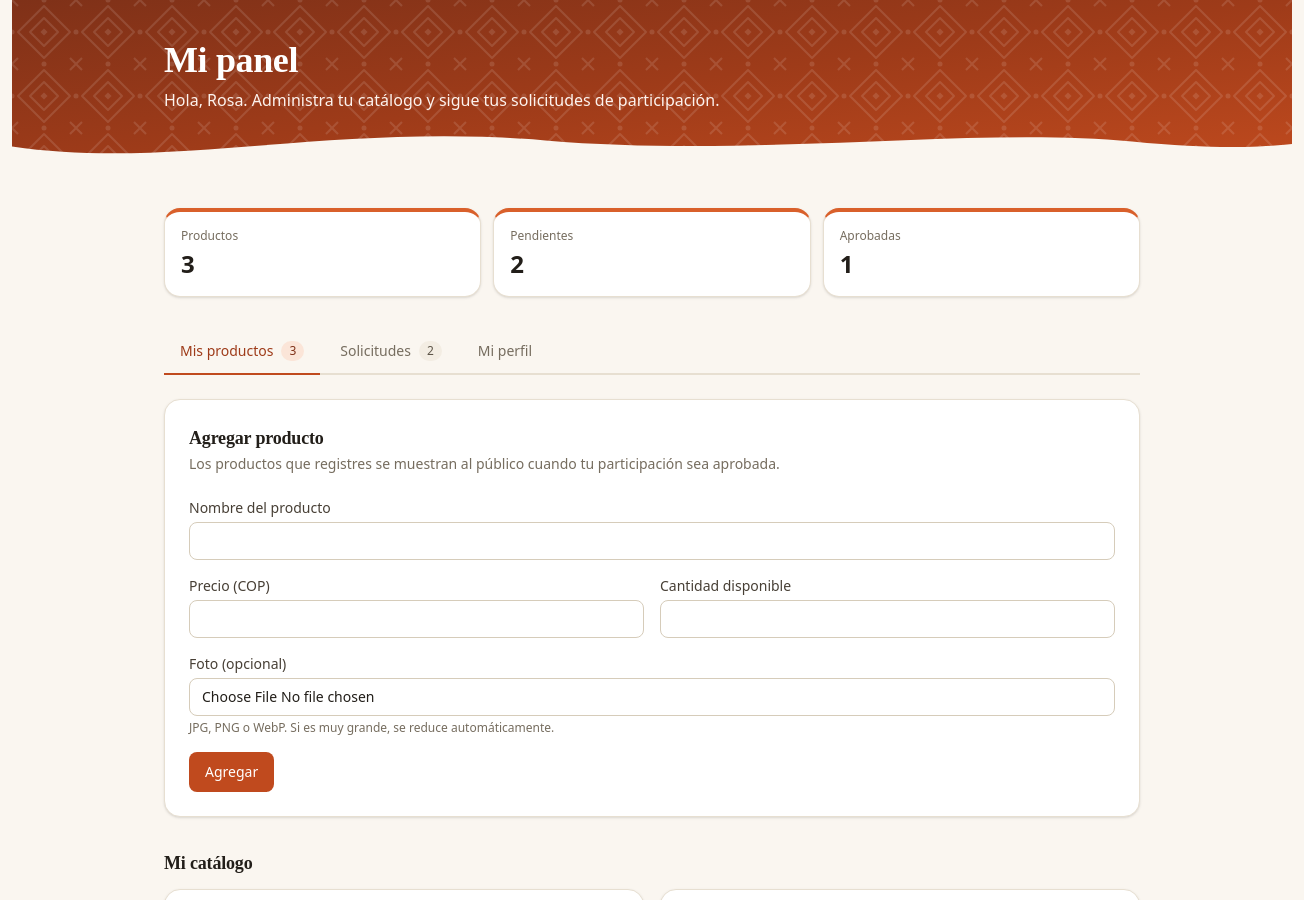
Test: PanelArtesano: crear producto › si crear falla muestra el error y conserva el formulario
Step 1. Type "Cesta" into the field labelled "Nombre del producto" → (652, 541), box [189, 522, 1115, 560]
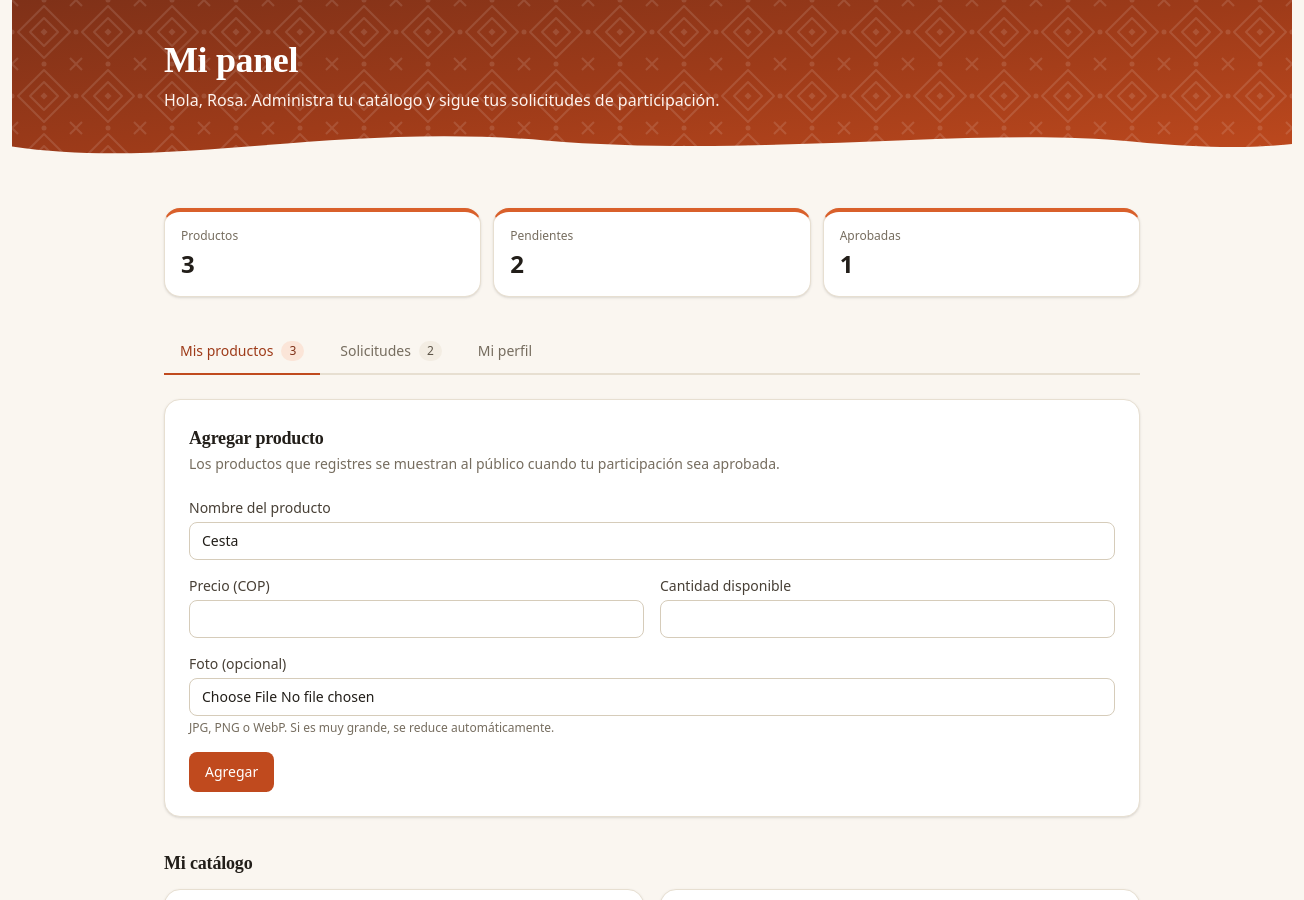
Step 2. Type "15000" into the number field labelled "Precio (COP)" → (416, 619), box [189, 600, 644, 638]
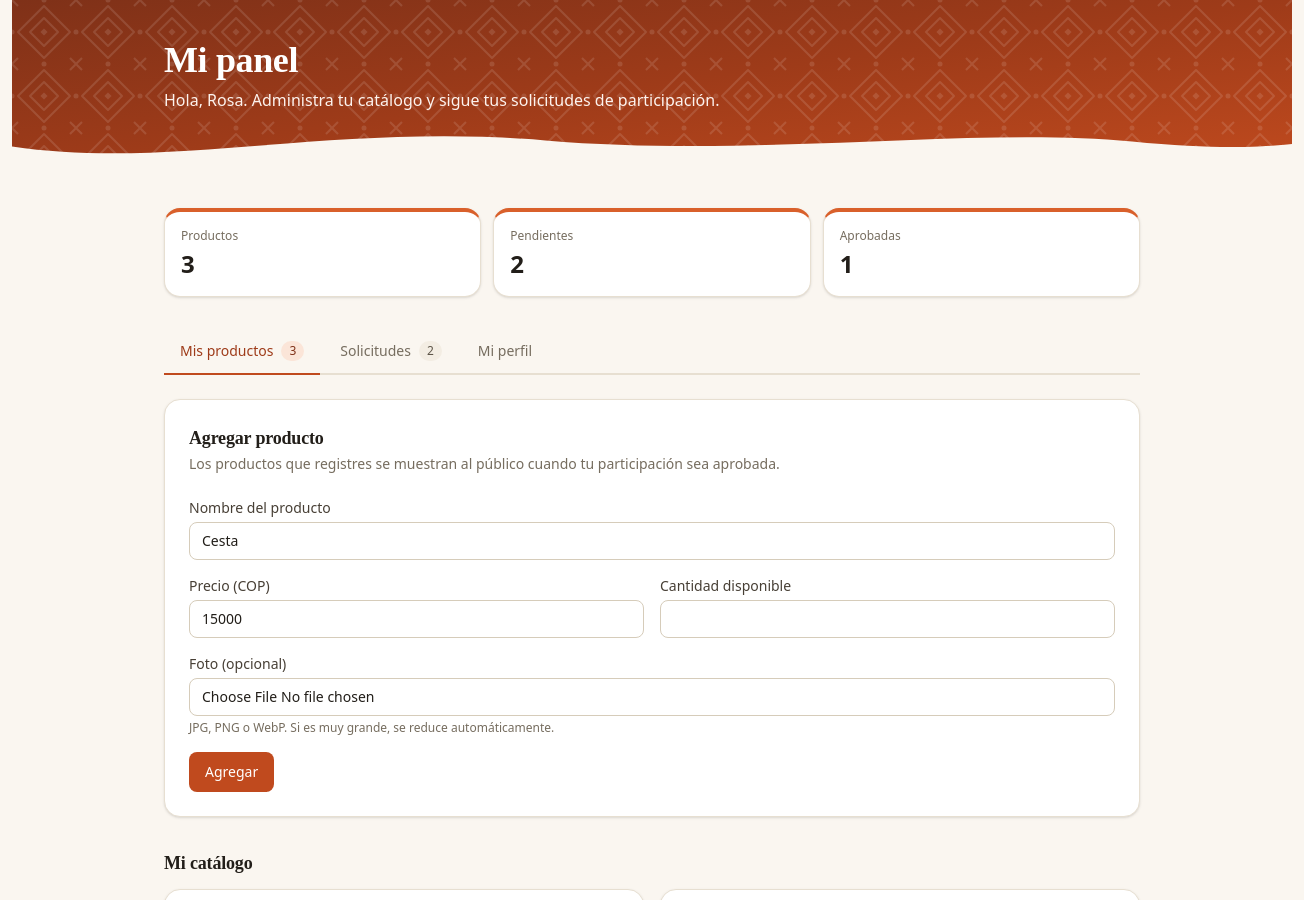
Step 3. Type "4" into the number field labelled "Cantidad disponible" → (888, 619), box [660, 600, 1115, 638]
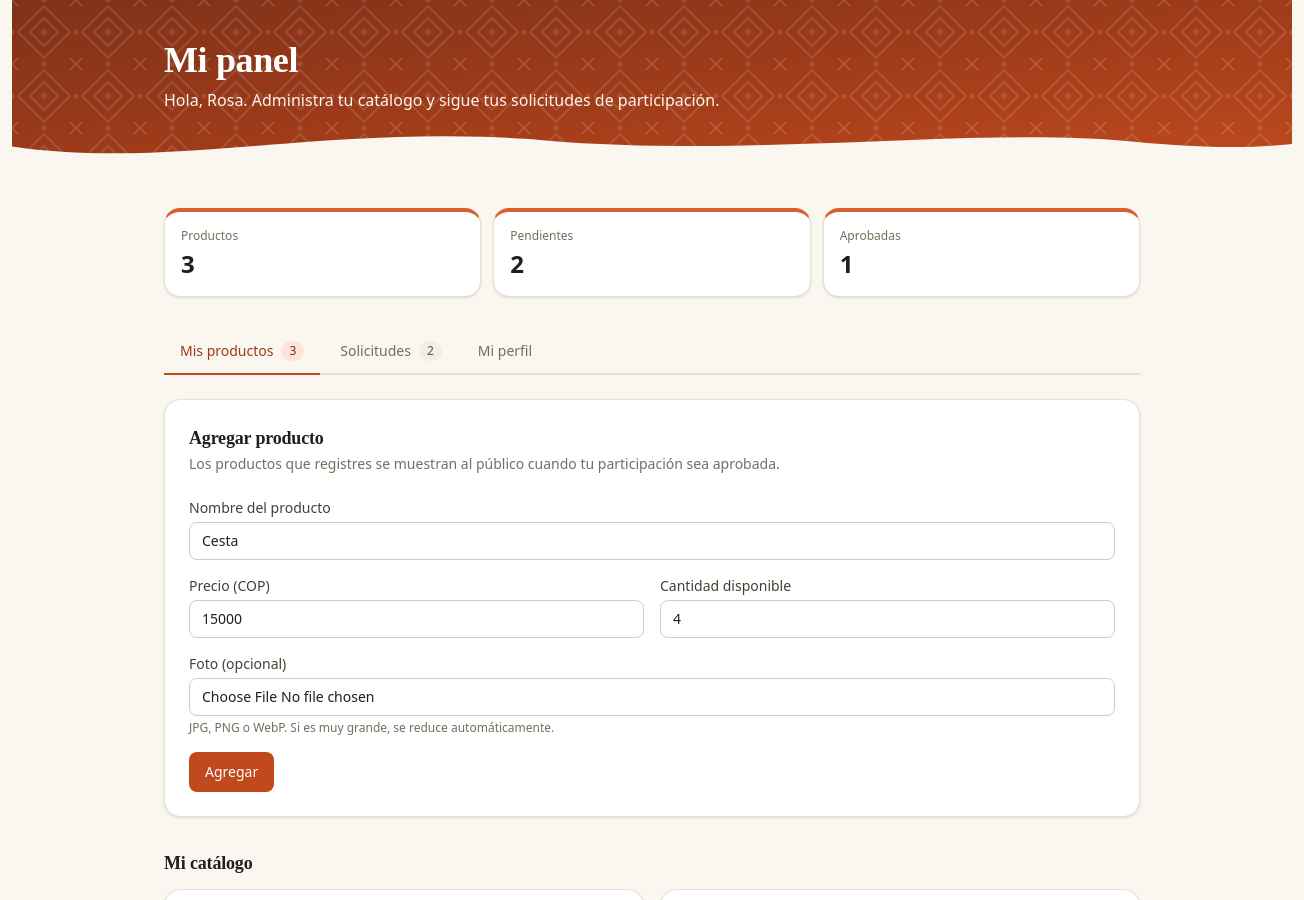
Step 4. Click the button "Agregar" → (232, 772), box [189, 752, 274, 792]
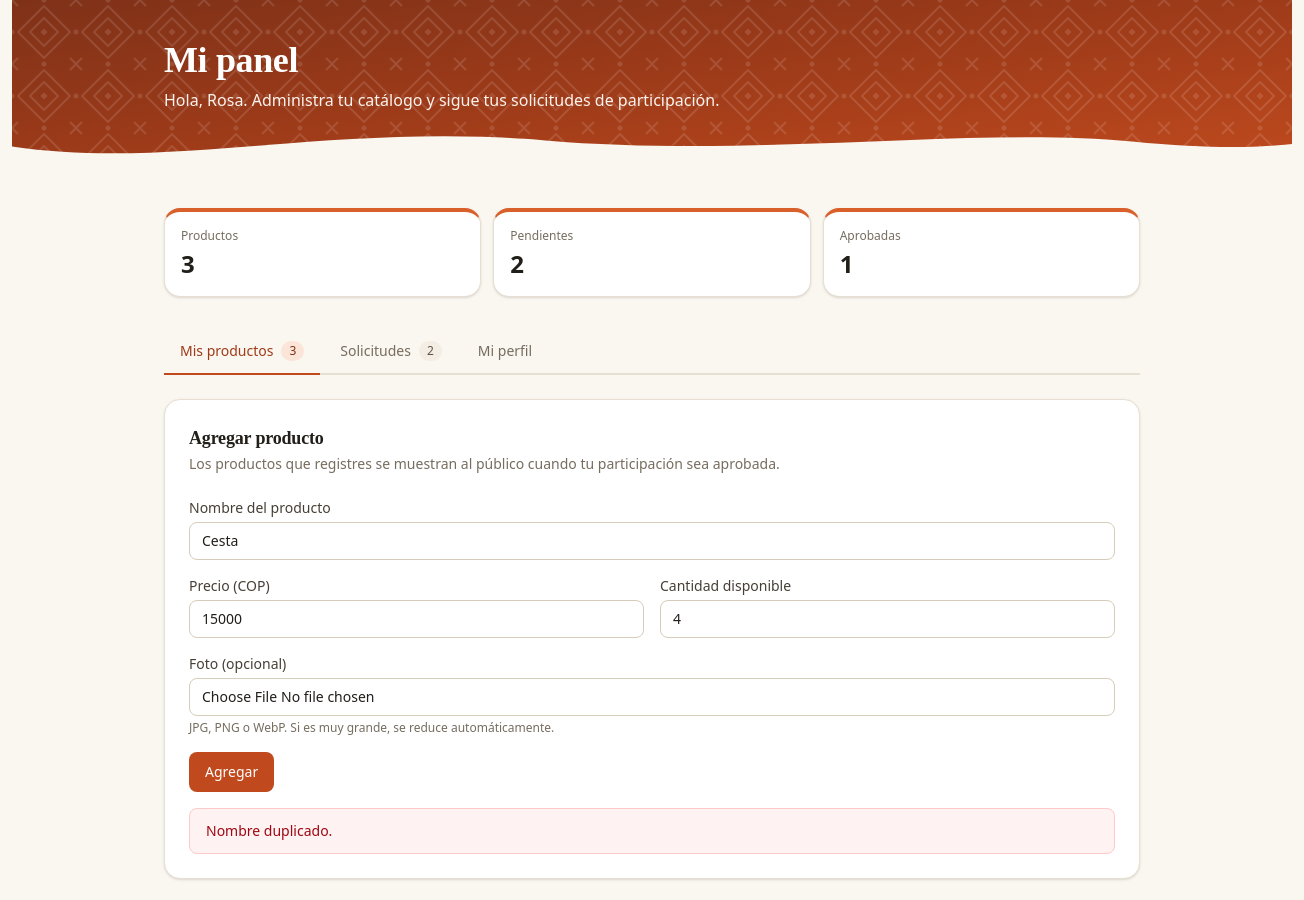
expect the text "Nombre duplicado." is shown: met, box [189, 808, 1115, 854]
